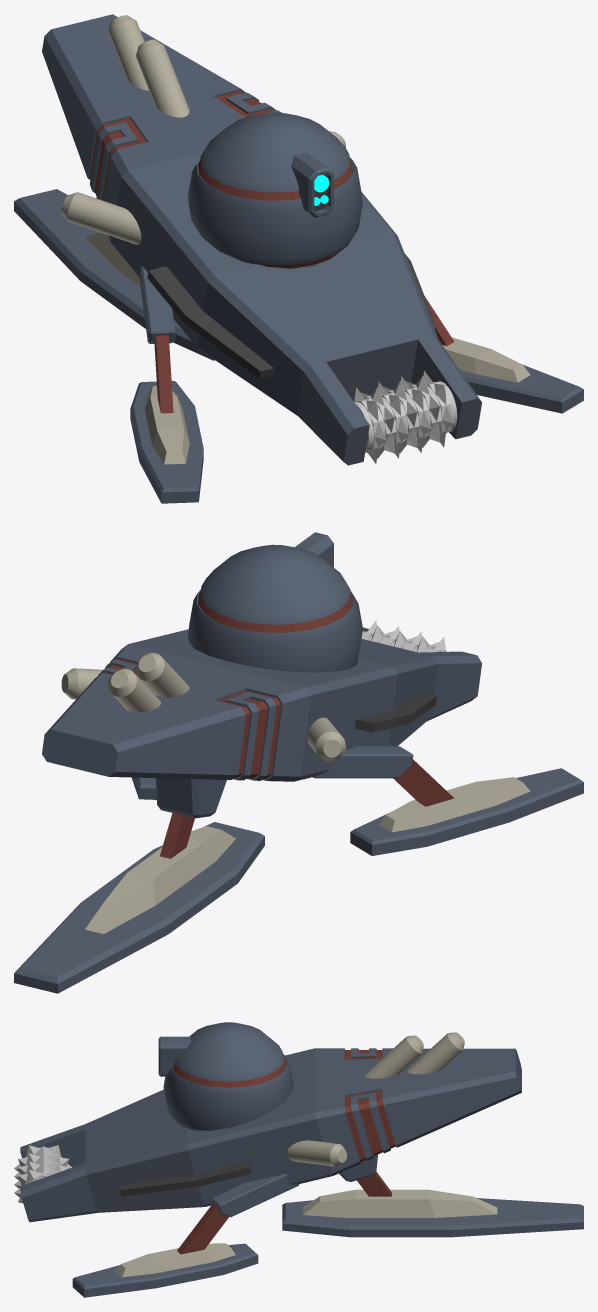
The model's file is DroneScavenger.fbx.
The picture shows the model from 3 angles, top to bottom: view 1: azimuth 30°, elevation 25°; view 2: azimuth 150°, elevation 25°; view 3: azimuth 270°, elevation 25°; orthographic projection. The views are drawn at different scales.
Visible parts, largest first — view 1: pCube253, pasted__pSphere13, pCube254 (×2), pCube255, pCube257, pCylinder56, pCylinder57, pasted__pCube10, pCylinder58, pCube262, pCube260, pCylinder48 (+7 smaller); view 2: pCube253, pasted__pSphere13, pCube255, pCube254, pCube262, pCube258, pCylinder57, pCube257, pCylinder58, pCube260, pCylinder56, pCube259 (+2 smaller); view 3: pCube253, pCube255, pasted__pSphere13, pCube254, pCube261, pCube257, pCylinder57, pCylinder55, pCylinder58, pCube260, pasted__pCube10, pCube258 (+1 smaller).
Boxes of the visible parts, <box> form: pCube253: <box>42,14,481,465</box>; pasted__pSphere13: <box>188,112,362,268</box>; pCube254 (×2): <box>130,337,583,503</box>; pCube255: <box>14,189,214,360</box>; pCube257: <box>147,254,437,378</box>; pCylinder56: <box>61,192,141,244</box>; pCylinder57: <box>135,39,189,117</box>; pasted__pCube10: <box>291,152,333,217</box>; pCylinder58: <box>108,15,148,90</box>; pCube262: <box>139,266,175,343</box>; pCube260: <box>154,335,173,413</box>; pCylinder48: <box>354,381,457,452</box>; pCube253: <box>42,627,481,781</box>; pasted__pSphere13: <box>188,544,362,672</box>; pCube255: <box>14,822,264,993</box>; pCube254: <box>350,768,583,855</box>; pCube262: <box>313,746,413,778</box>; pCube258: <box>155,778,226,818</box>; pCylinder57: <box>135,652,189,697</box>; pCube257: <box>354,693,437,732</box>; pCylinder58: <box>108,668,160,712</box>; pCube260: <box>393,759,454,806</box>; pCylinder56: <box>307,717,345,761</box>; pCube259: <box>160,813,194,858</box>; pCube253: <box>20,1048,521,1222</box>; pCube255: <box>282,1189,583,1237</box>; pasted__pSphere13: <box>163,1022,293,1130</box>; pCube254: <box>72,1243,258,1297</box>; pCube261: <box>211,1174,299,1216</box>; pCube257: <box>119,1161,251,1196</box>; pCylinder57: <box>364,1035,423,1078</box>; pCylinder55: <box>287,1140,346,1166</box>; pCylinder58: <box>407,1032,464,1074</box>; pCube260: <box>177,1203,228,1254</box>; pasted__pCube10: <box>158,1036,191,1076</box>; pCube258: <box>339,1154,377,1181</box>.
Bounding box in the file's own units: 18.67 × 11.01 × 29.4.
